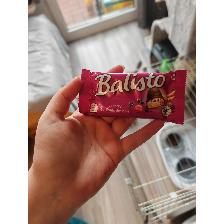Schokolade: (78, 68, 188, 127)
